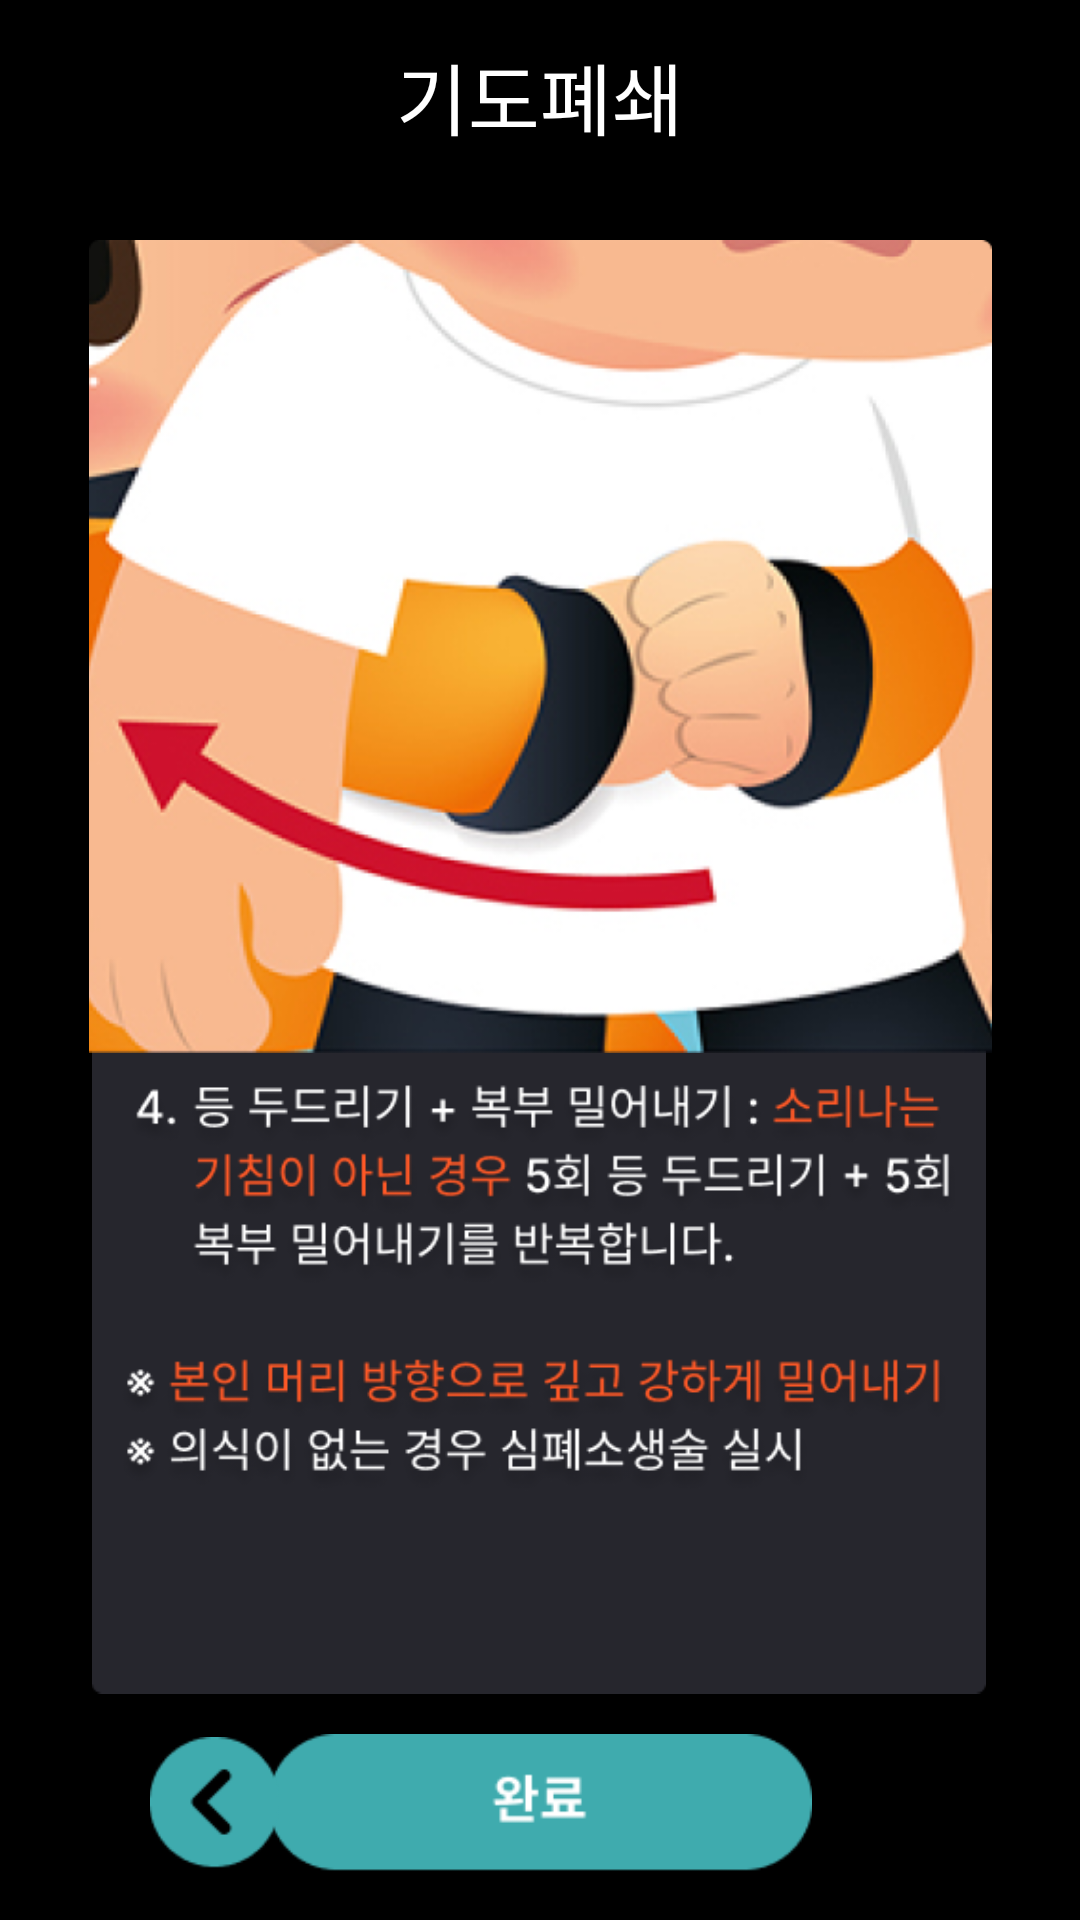

Where to tap for icons on this 1080px x 1920px app screen, as (x=x, y=y):
edu previous page: (x=217, y=1802)
